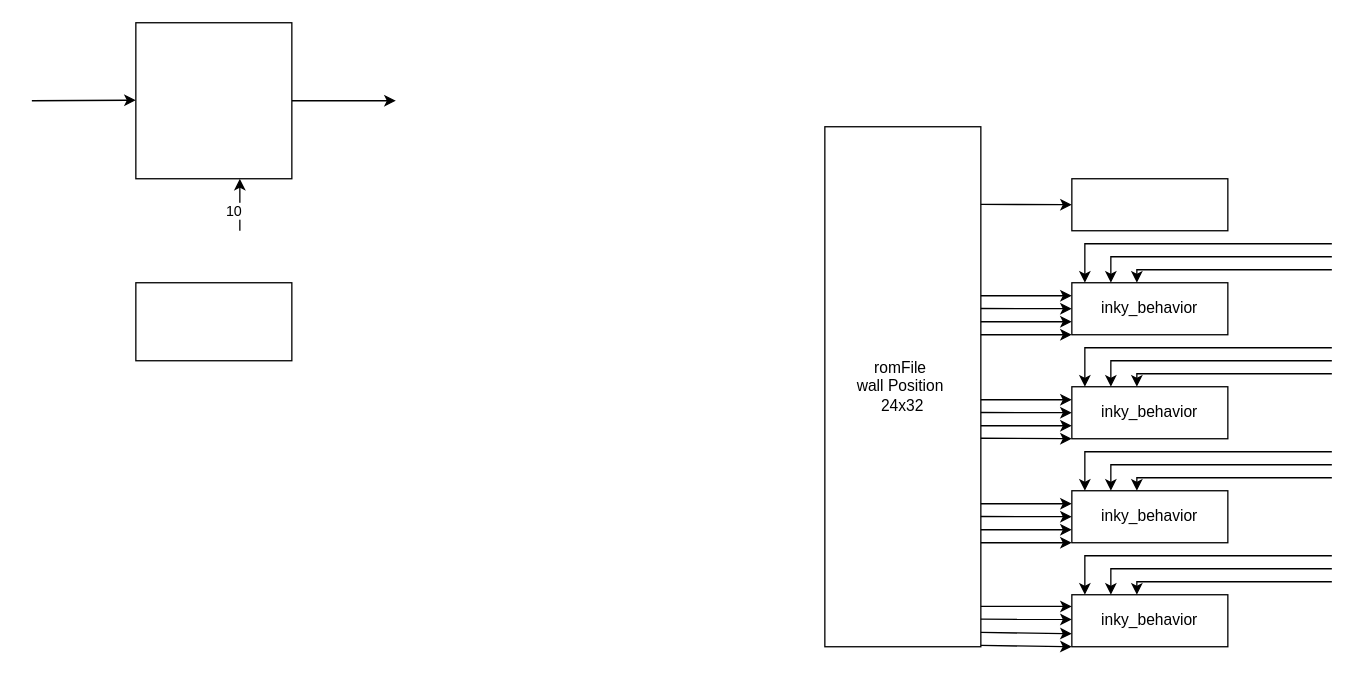
This 1365x680 diagram has some shape labels left out. The box of each missing label's shape, as (x1, y1, x2, y2) in pixels:
pacman_behavior: (1071, 177, 1228, 231)
RAM gameBoard 768x4: (135, 21, 292, 179)
